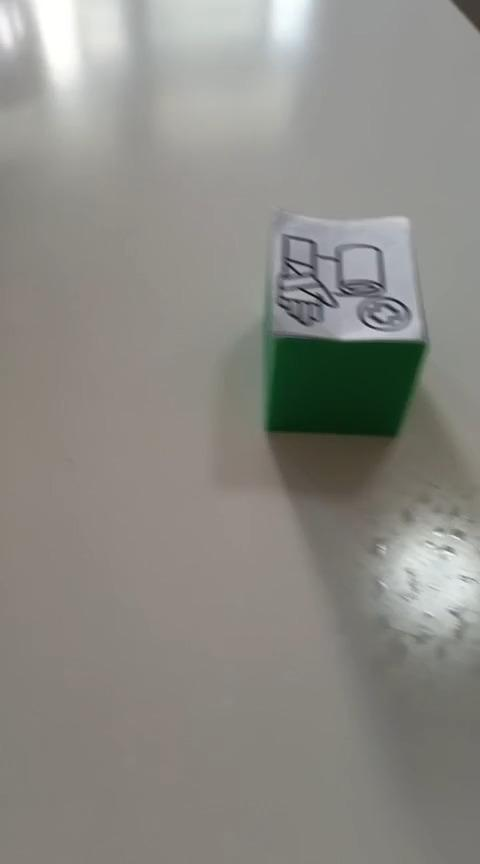Bandages: (261, 207, 430, 439)
